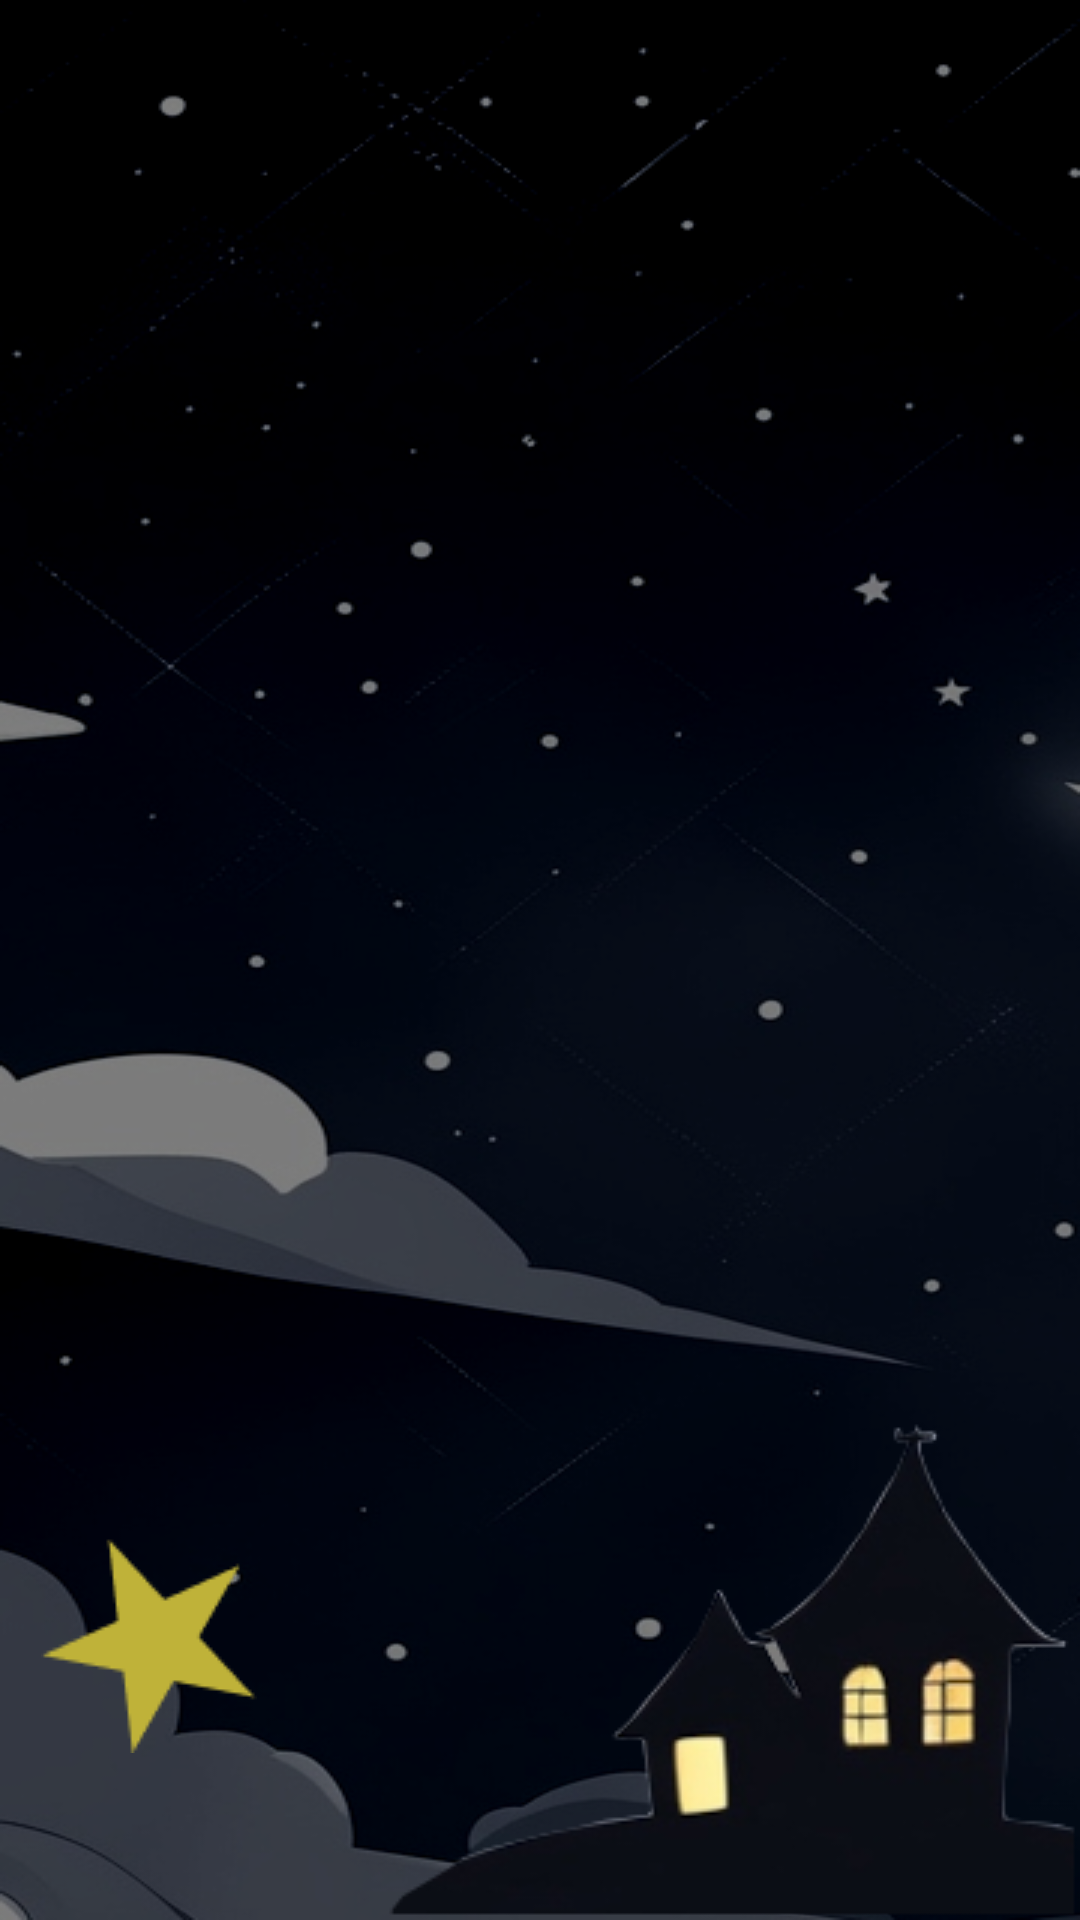

Named icons in this screenshot (1080x1920) and their centers, point (x, y):
star: point (149, 1645)
